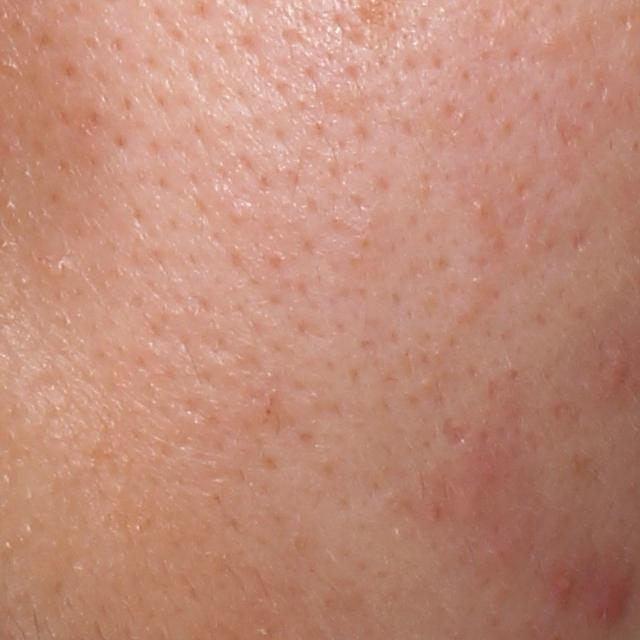atrophic_scar: (440, 414, 476, 450)
comedo: (44, 255, 73, 284)
papule: (587, 565, 633, 621)
